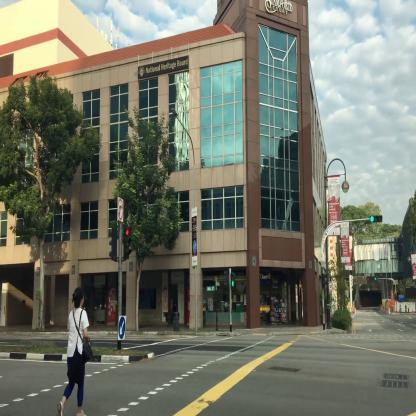green_traffic_light: (369, 216, 382, 221)
